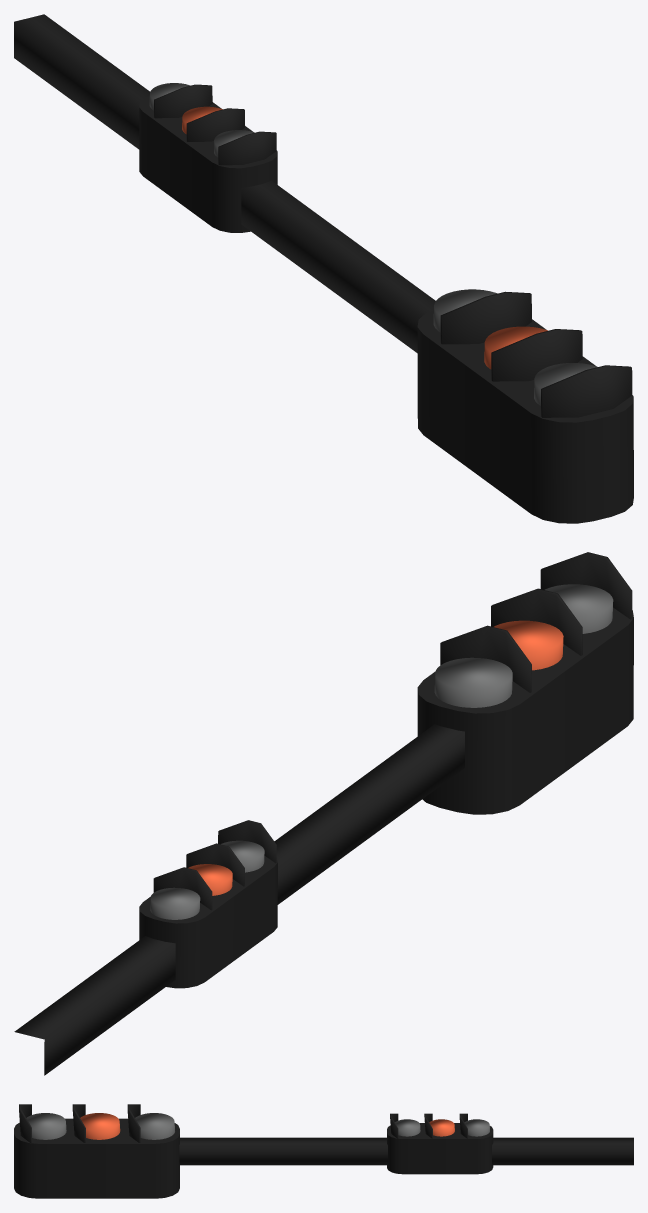
File: traffic_light_orange.glb
3 renders of one model, top to bottom at view 1: azimuth 30°, elevation 25°; view 2: azimuth 150°, elevation 25°; view 3: azimuth 270°, elevation 25°, orthographic. The views are drawn at different scales.
Visible parts, largest first — view 1: 2. Orange; view 2: 2. Orange; view 3: 2. Orange.
Boxes of the visible parts, x1,y1,x2,y2 form: 2. Orange: (14,14,633,523); 2. Orange: (14,552,633,1075); 2. Orange: (14,1104,633,1198).
Bounding box in the file's own units: 0.5899 × 0.8512 × 6.03.
1 material, 1 textured.
